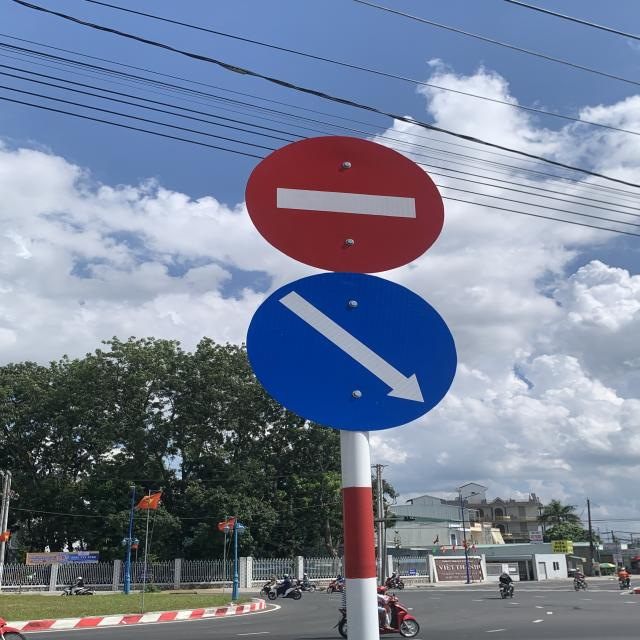Cam_Di_Nguoc_Chieu: (243, 135, 447, 272)
Chi_Huong_Di_Phai: (248, 272, 458, 432)
